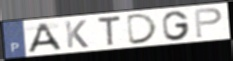A: (26, 21, 64, 54)
D: (126, 12, 160, 46)
G: (161, 10, 192, 42)
K: (64, 19, 90, 50)
P: (193, 7, 224, 40)
T: (96, 14, 122, 47)
